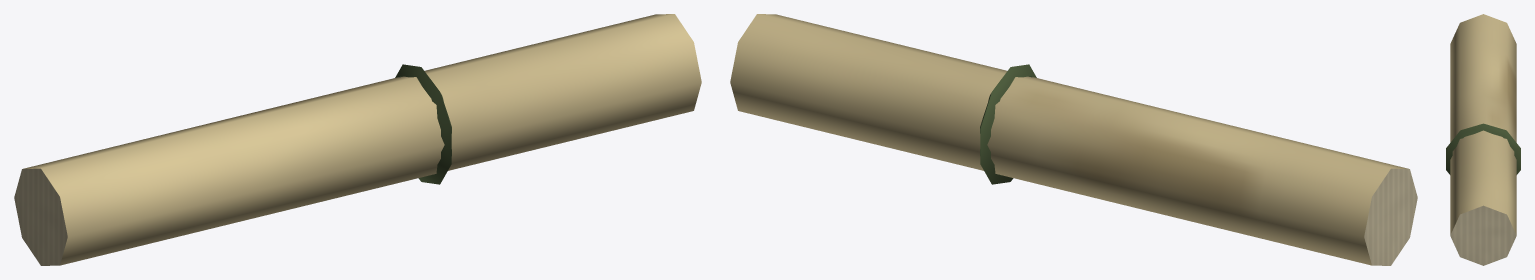
The model's file is scroll.obj.
3 views of the same model, side by side, from view 1: azimuth 30°, elevation 25°; view 2: azimuth 150°, elevation 25°; view 3: azimuth 270°, elevation 25° (orthographic). The views are drawn at different scales.
Parts seen in each view (by area): view 1: scroll; view 2: scroll; view 3: scroll.
Part boxes in pixels (left/top/right/bottom): scroll: left=14, top=14, right=701, bottom=265; scroll: left=730, top=14, right=1417, bottom=265; scroll: left=1446, top=14, right=1520, bottom=265.
Size of the model in its own units: 0.3 by 0.052 by 0.0495.
Materials: 1 (1 with a texture image).
